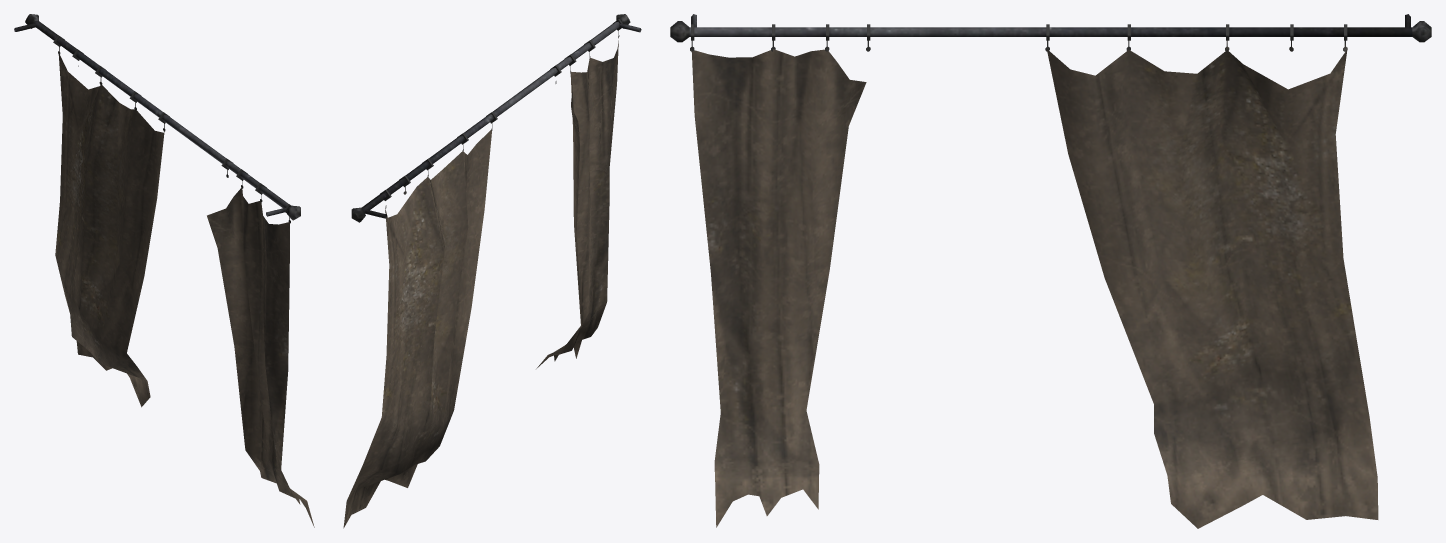
The model's file is Double_CheapCurtainSet_T02.FBX.
3 renders of one model, left to right at view 1: azimuth 30°, elevation 25°; view 2: azimuth 150°, elevation 25°; view 3: azimuth 270°, elevation 25°, orthographic. The views are drawn at different scales.
Parts seen in each view (by area): view 1: Double_CheapCurtainSet_T02; view 2: Double_CheapCurtainSet_T02; view 3: Double_CheapCurtainSet_T02.
Boxes of the visible parts, left/top/right/bottom form: Double_CheapCurtainSet_T02: left=14, top=14, right=314, bottom=527; Double_CheapCurtainSet_T02: left=343, top=14, right=641, bottom=528; Double_CheapCurtainSet_T02: left=670, top=14, right=1431, bottom=528.
Size of the model in its own units: 35.46 by 194 by 275.
